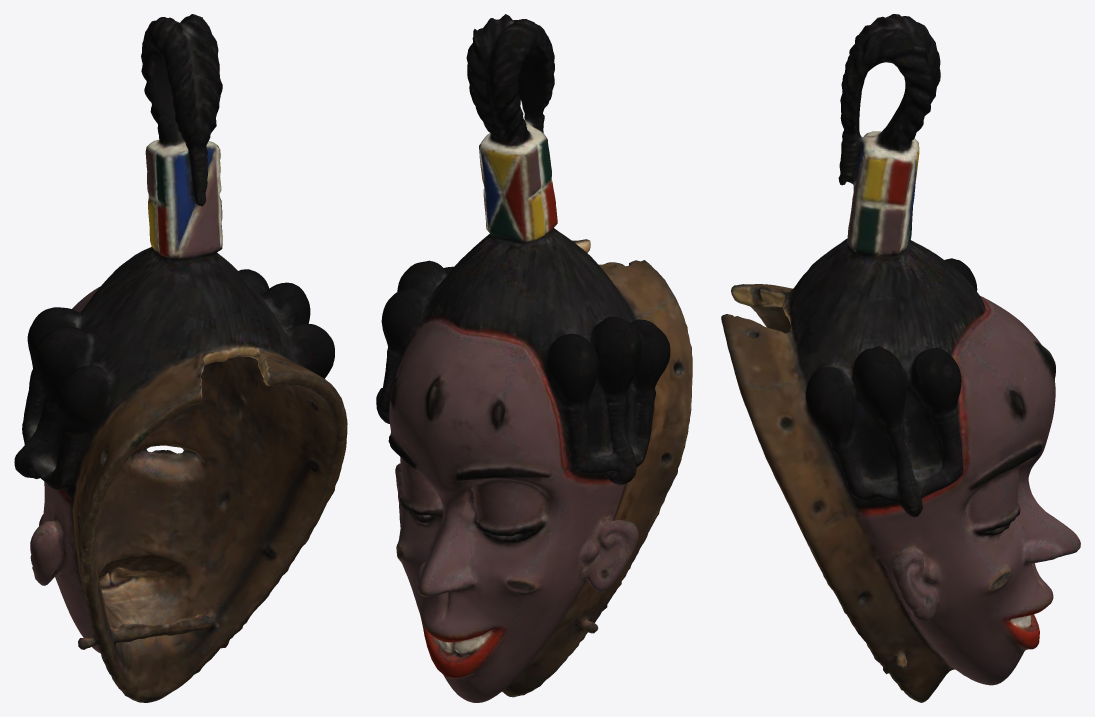
File: preview.glb
3 views of the same model, side by side, from view 1: azimuth 30°, elevation 25°; view 2: azimuth 150°, elevation 25°; view 3: azimuth 270°, elevation 25° (orthographic). The views are drawn at different scales.
Parts seen in each view (by area): view 1: Object_2; view 2: Object_2; view 3: Object_2.
Boxes of the visible parts, bbox=[...] form: Object_2: bbox=[14, 14, 347, 702]; Object_2: bbox=[376, 14, 692, 702]; Object_2: bbox=[721, 14, 1080, 702].
Bounding box in the file's own units: 168 × 400 × 189.
1 material, 1 textured.
